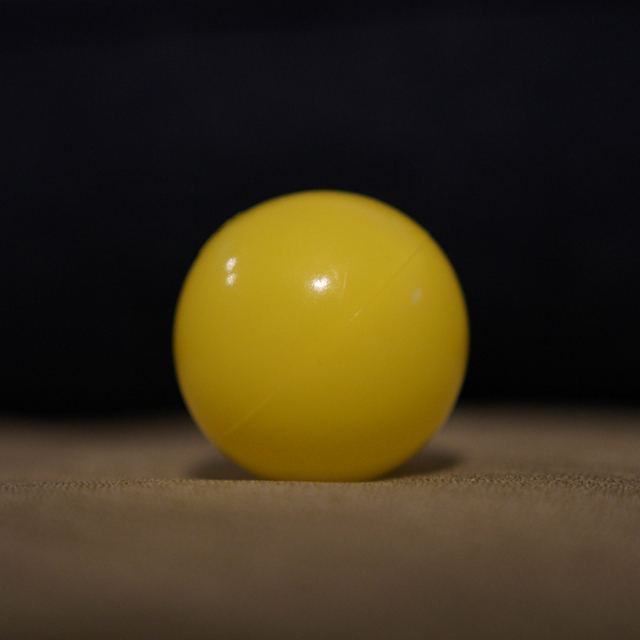Ball: (174, 185, 473, 483)
